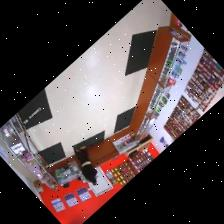person: (74, 146, 96, 183)
